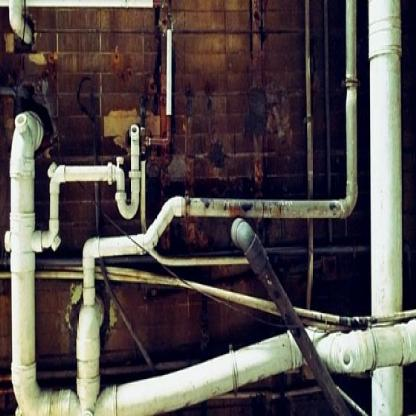PVC: (81, 0, 358, 305), (230, 218, 351, 415), (4, 108, 81, 415), (93, 263, 415, 331), (94, 325, 303, 415), (34, 128, 141, 253), (368, 0, 403, 315), (301, 322, 415, 375), (74, 296, 103, 415), (305, 2, 313, 197), (265, 242, 368, 256), (325, 3, 332, 195), (7, 0, 35, 47), (90, 117, 99, 238), (306, 220, 316, 310), (35, 257, 81, 272), (36, 265, 81, 279), (140, 159, 147, 233), (167, 28, 172, 117), (1, 254, 10, 270), (2, 273, 11, 279)
